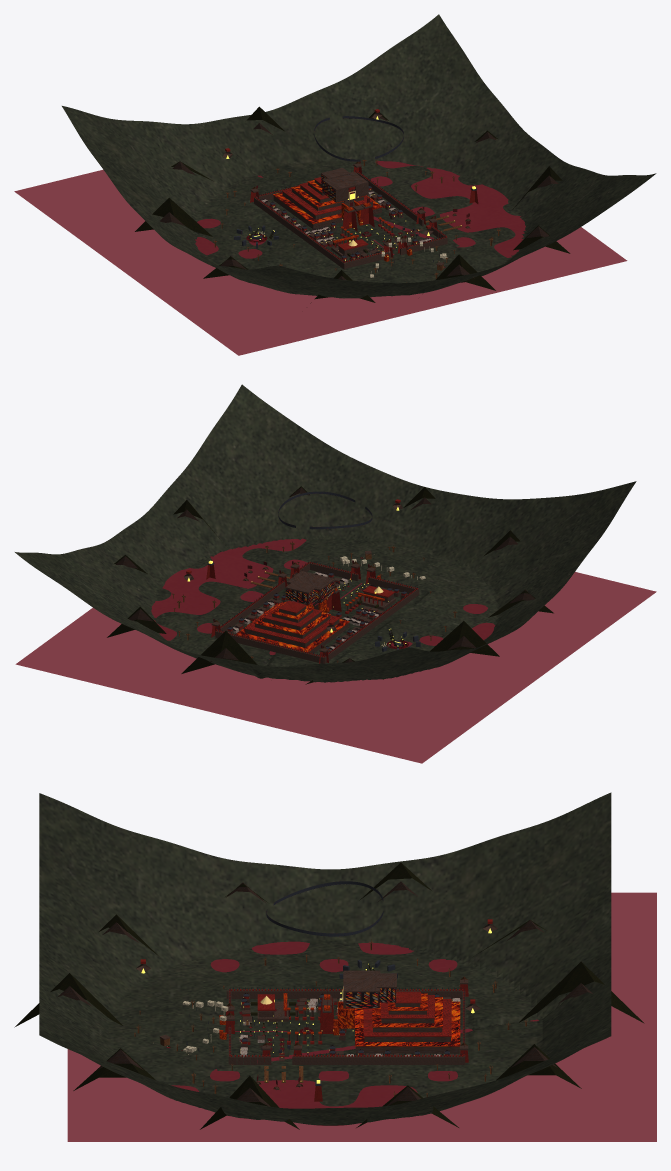
The model's file is veyl_city.glb.
The picture shows the model from 3 angles, top to bottom: view 1: azimuth 30°, elevation 25°; view 2: azimuth 150°, elevation 25°; view 3: azimuth 270°, elevation 25°; orthographic projection. The views are drawn at different scales.
Visible parts, largest first — view 1: city_tex, city_blood; view 2: city_tex, city_blood; view 3: city_tex, city_blood.
Boxes of the visible parts, x1,y1,x2,y2 form: city_tex: [62, 14, 656, 303]; city_blood: [14, 161, 627, 355]; city_tex: [15, 384, 636, 684]; city_blood: [15, 538, 656, 763]; city_tex: [14, 792, 644, 1129]; city_blood: [67, 892, 656, 1141].
Size of the model in its own units: 724 by 175 by 742.
4 materials, 1 textured.
